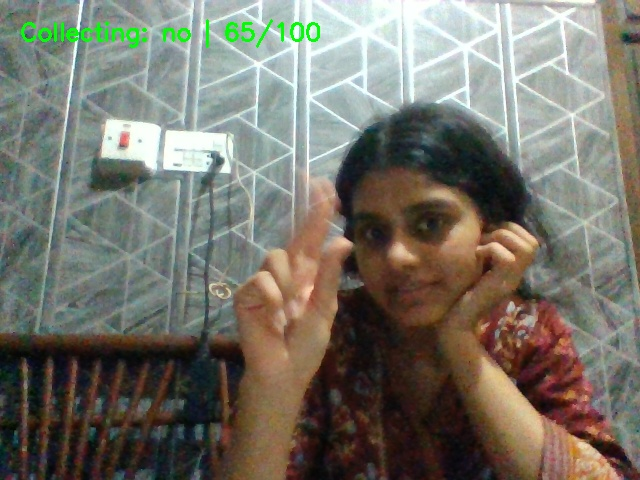no: (224, 169, 356, 392)
